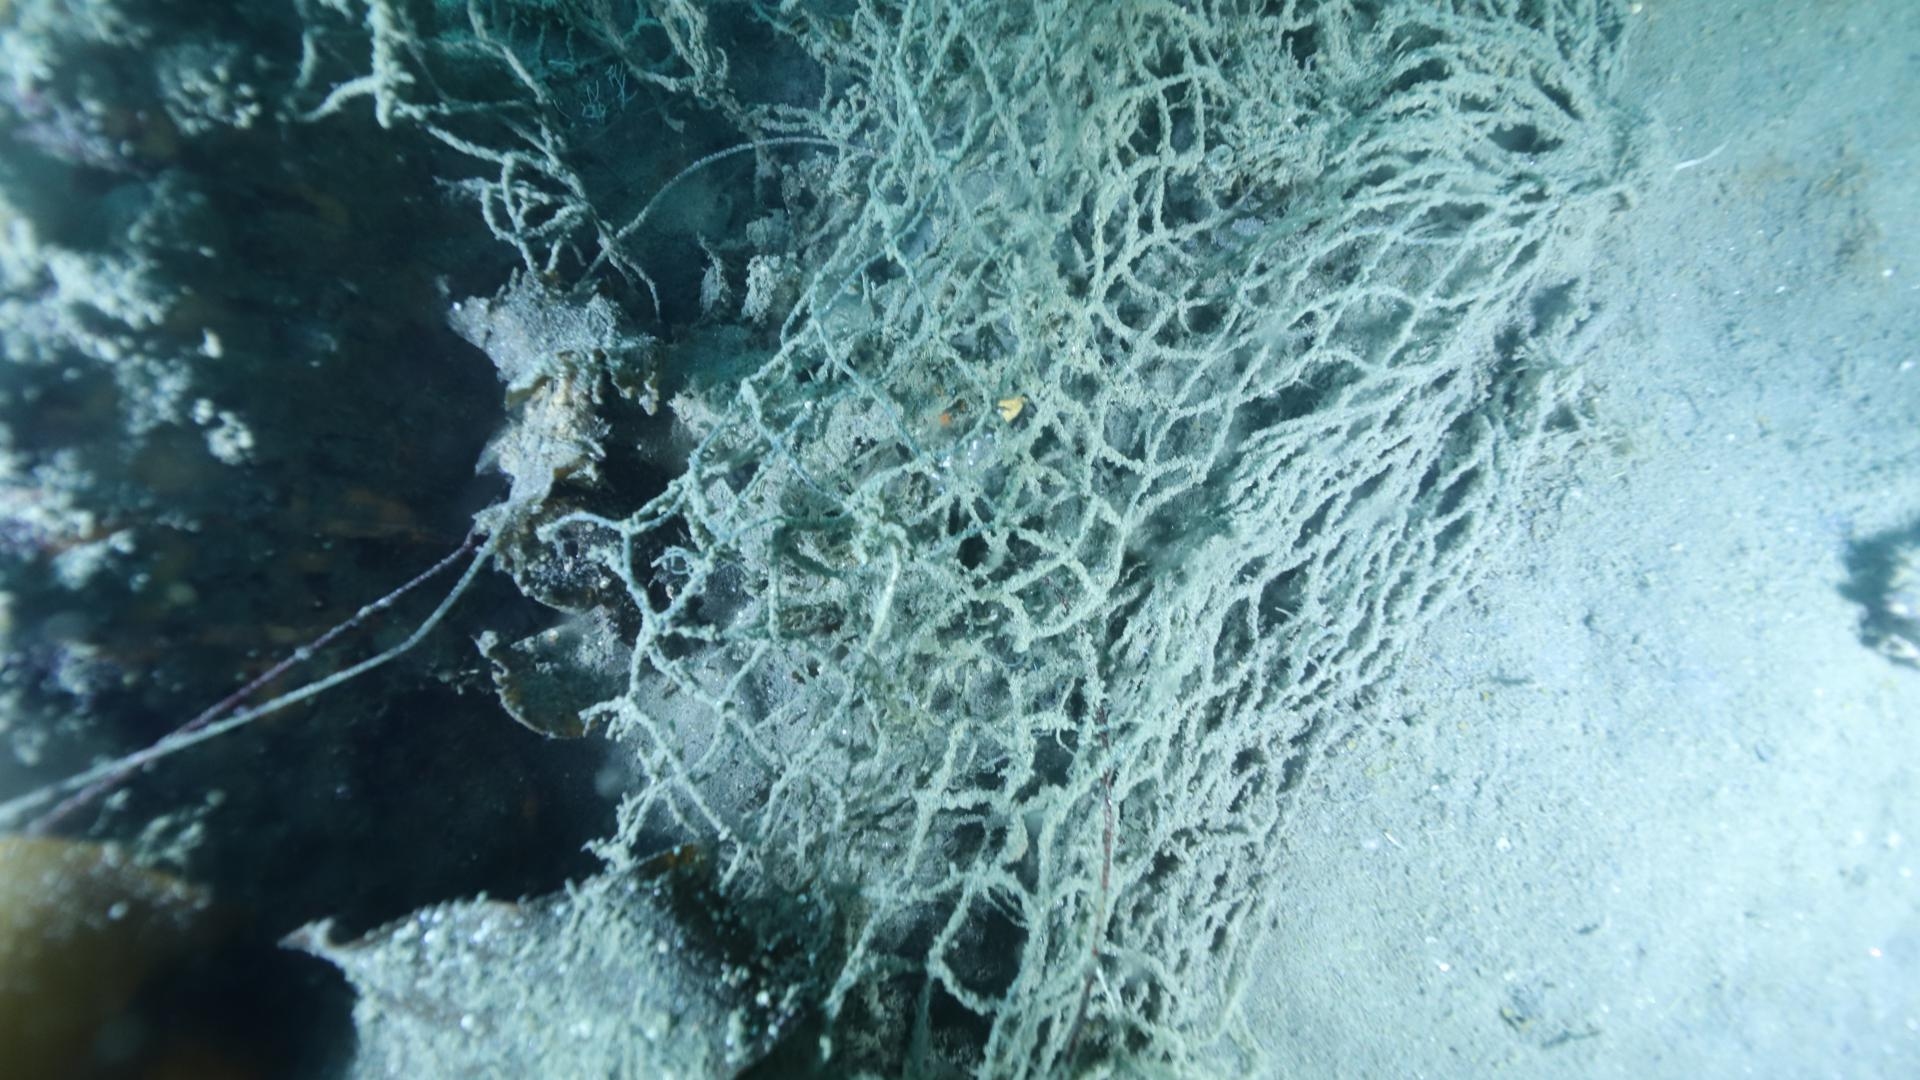fish net: (618, 0, 1535, 1080)
